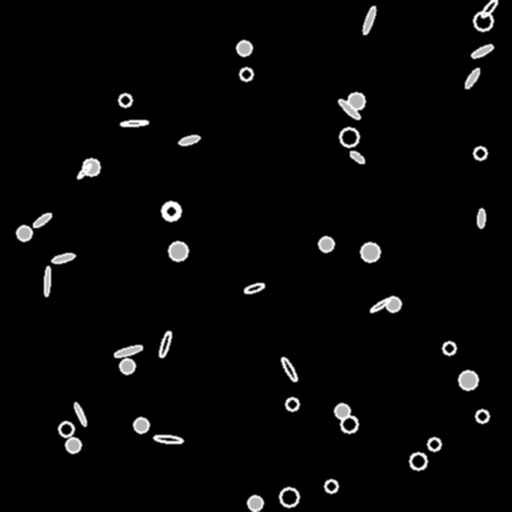pseudomonas: (337, 98, 361, 120), (361, 5, 377, 35), (280, 356, 298, 382), (113, 344, 143, 358), (463, 67, 481, 89), (479, 0, 499, 19), (158, 331, 172, 357), (32, 211, 52, 229), (471, 43, 493, 59), (369, 297, 391, 313), (73, 402, 87, 426), (153, 434, 183, 444), (51, 252, 75, 264), (76, 162, 92, 180), (178, 134, 200, 146), (244, 282, 264, 294), (349, 150, 365, 164), (44, 267, 50, 295), (121, 120, 147, 126), (478, 208, 484, 228)
synechocystis: (361, 243, 379, 261), (162, 202, 180, 220), (474, 12, 492, 30), (280, 488, 298, 506), (340, 128, 358, 146), (169, 242, 187, 260), (459, 371, 477, 389), (348, 93, 364, 109), (341, 416, 357, 432), (83, 159, 99, 175), (410, 453, 426, 469), (17, 226, 31, 240), (248, 496, 262, 510), (120, 359, 134, 373), (59, 422, 73, 436), (319, 237, 333, 251), (386, 297, 400, 311), (237, 41, 251, 55), (134, 418, 148, 432), (66, 438, 80, 452), (335, 404, 349, 418), (325, 480, 337, 492), (474, 147, 486, 159), (476, 410, 488, 422), (240, 68, 252, 80), (165, 205, 177, 217), (119, 94, 131, 106), (286, 398, 298, 410), (443, 342, 455, 354), (428, 438, 440, 450)
